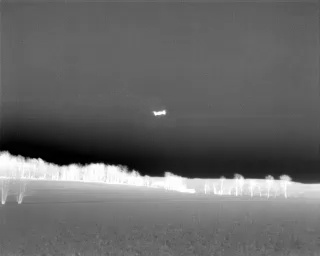DRONE: (148, 104, 172, 122)
